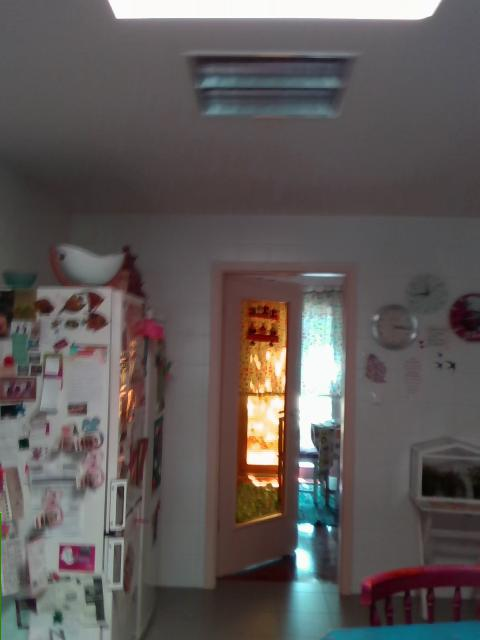semi_door: (204, 255, 360, 595)
